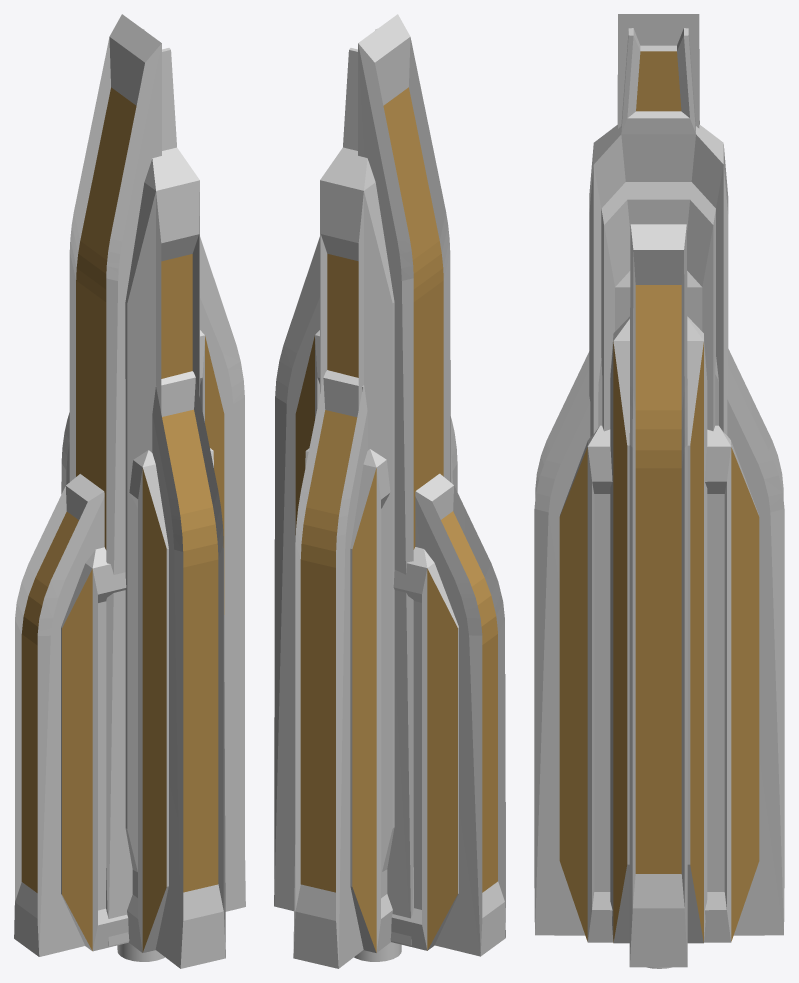
File: skyscraper_6.fbx
3 renders of one model, left to right at view 1: azimuth 30°, elevation 25°; view 2: azimuth 150°, elevation 25°; view 3: azimuth 270°, elevation 25°, orthographic. The views are drawn at different scales.
Parts seen in each view (by area): view 1: Skyscraper 3, Cylinder.008; view 2: Skyscraper 3, Cylinder.008; view 3: Skyscraper 3.
Boxes of the visible parts, left/top/right/bottom form: Skyscraper 3: left=14, top=14, right=245, bottom=968; Cylinder.008: left=117, top=942, right=164, bottom=961; Skyscraper 3: left=274, top=14, right=505, bottom=968; Cylinder.008: left=354, top=942, right=401, bottom=961; Skyscraper 3: left=534, top=14, right=784, bottom=967.
Size of the model in its own units: 2682 by 11480 by 2761.
